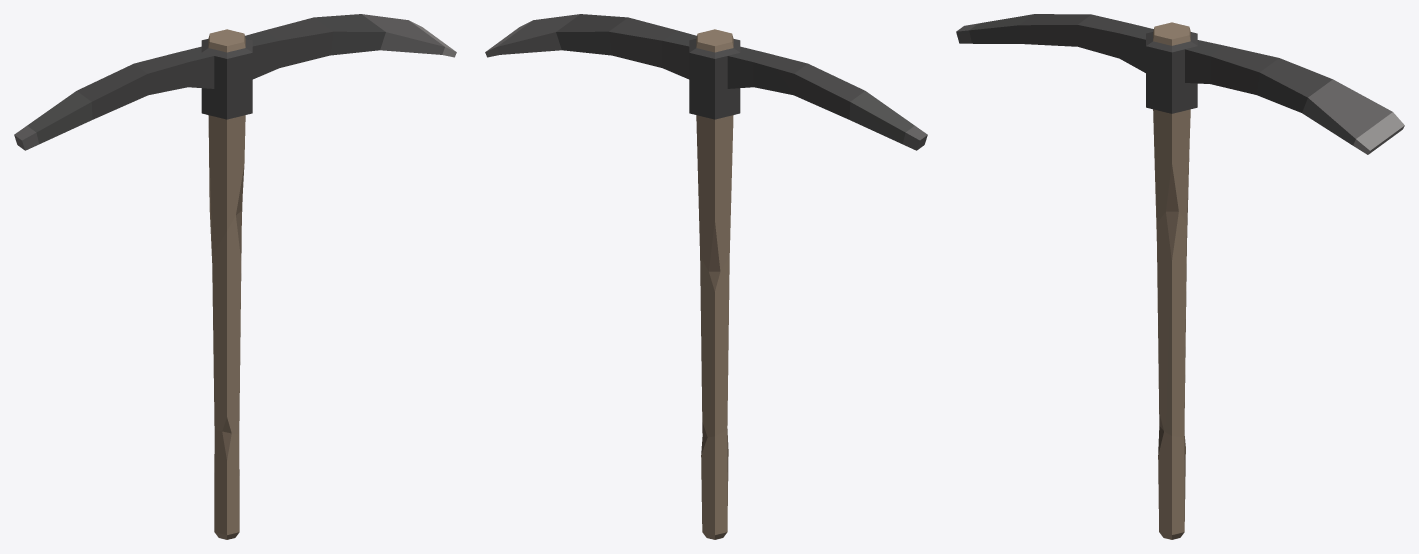
The model's file is SM_Wep_Pickacxe_01.glb.
The picture shows the model from 3 angles, left to right: view 1: azimuth 30°, elevation 25°; view 2: azimuth 150°, elevation 25°; view 3: azimuth 330°, elevation 25°; orthographic projection.
Visible parts, largest first — view 1: SM_Wep_Pickacxe_01; view 2: SM_Wep_Pickacxe_01; view 3: SM_Wep_Pickacxe_01.
Part boxes in pixels (x1=…): SM_Wep_Pickacxe_01: x1=14, y1=14, x2=456, y2=539; SM_Wep_Pickacxe_01: x1=485, y1=14, x2=927, y2=539; SM_Wep_Pickacxe_01: x1=956, y1=14, x2=1404, y2=539.
Size of the model in its own units: 0.8706 by 0.9827 by 0.1308.
Materials: 1 (1 with a texture image).
